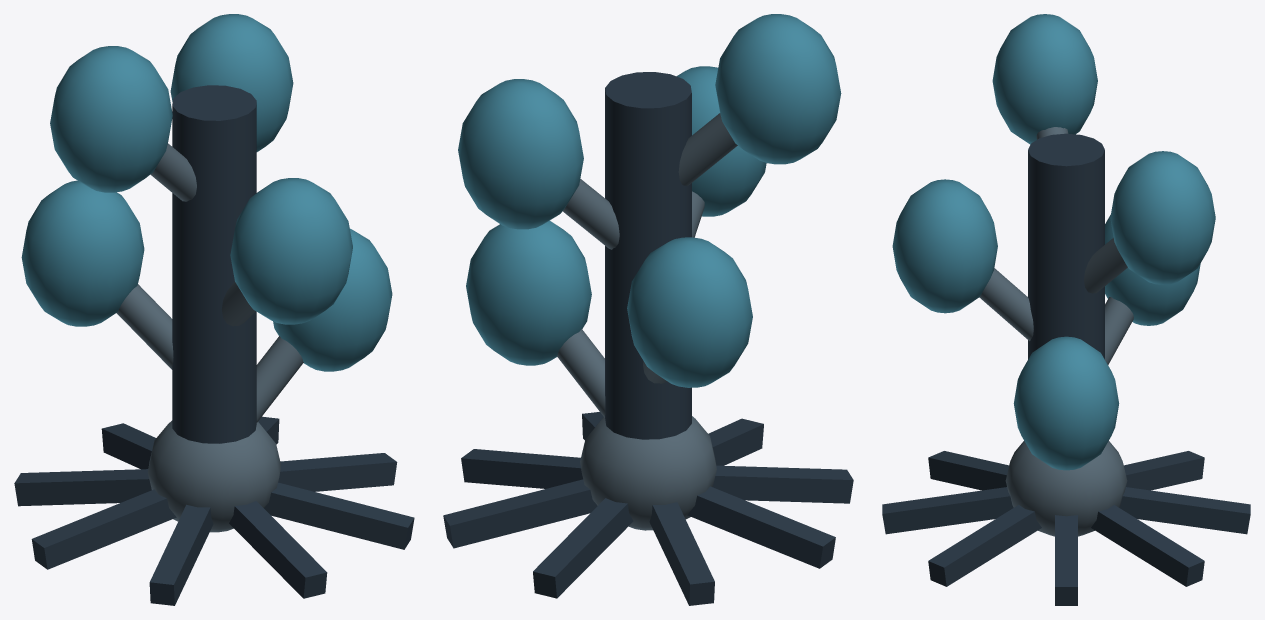
The model's file is CMU3DHiveHivePlasmaTreeXenoConstructionNode.glb.
The picture shows the model from 3 angles, left to right: view 1: azimuth 30°, elevation 25°; view 2: azimuth 150°, elevation 25°; view 3: azimuth 270°, elevation 25°; orthographic projection. The views are drawn at different scales.
Parts seen in each view (by area): view 1: nutrient sac (×5), anchoring root (×7), central branching trunk, construction bud, raised organ branch (×4); view 2: nutrient sac (×5), anchoring root (×7), central branching trunk, construction bud, raised organ branch (×3); view 3: nutrient sac (×5), anchoring root (×7), central branching trunk, construction bud, raised organ branch (×3).
Boxes of the visible parts, x1,y1,x2,y2 form: nutrient sac (×5): (21, 14, 392, 371); anchoring root (×7): (14, 423, 414, 605); central branching trunk: (172, 85, 256, 443); construction bud: (147, 420, 281, 532); raised organ branch (×4): (116, 143, 303, 422); nutrient sac (×5): (458, 14, 841, 387); anchoring root (×7): (443, 418, 853, 605); central branching trunk: (605, 72, 691, 439); construction bud: (580, 416, 716, 530); raised organ branch (×3): (557, 113, 737, 417); nutrient sac (×5): (892, 14, 1215, 470); anchoring root (×7): (882, 451, 1250, 605); central branching trunk: (1028, 133, 1104, 359); construction bud: (1005, 441, 1127, 536); raised organ branch (×3): (979, 238, 1133, 364).
Size of the model in its own units: 0.9085 by 1.26 by 0.9085.
